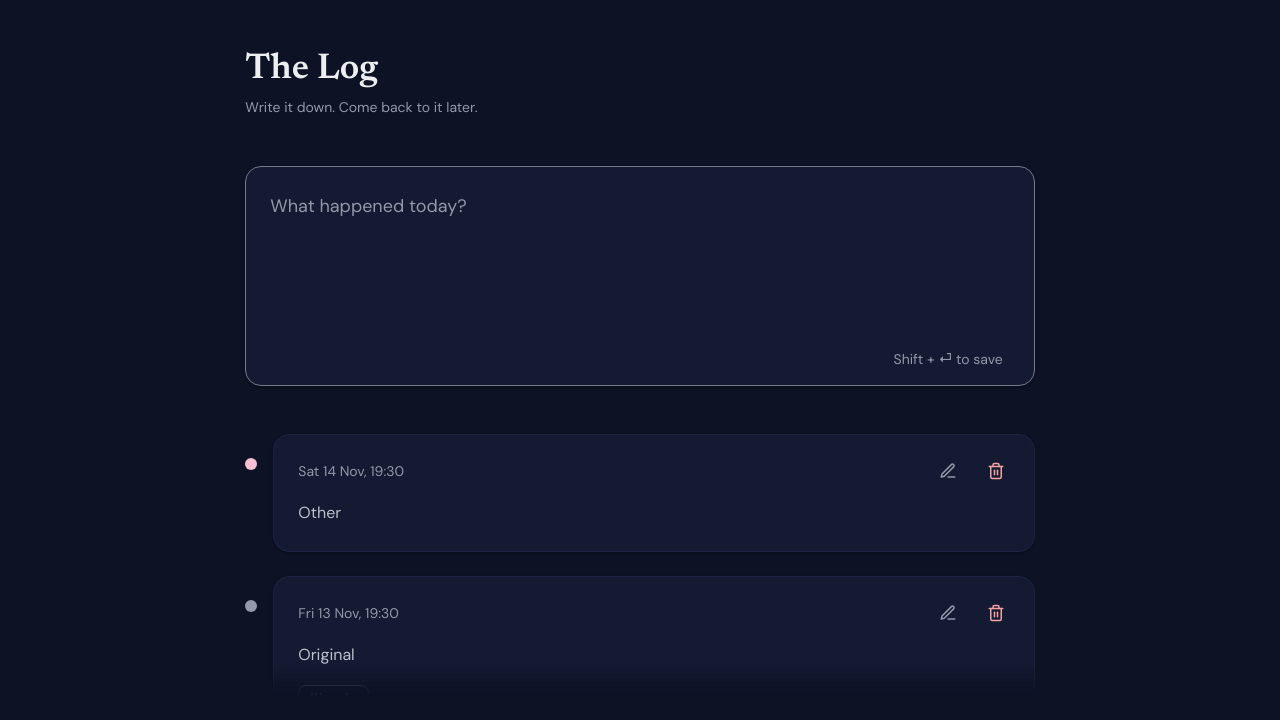
Test: keeps the thought and the stored item when the user cancels the delete
The image size is (1280, 720).
What coordinates should you click on to do the following:
click the button named "Delete thought, Fri 13 Nov, 19:30"
I would click on:
 (996, 613)
Its box is [974,591,1018,635].
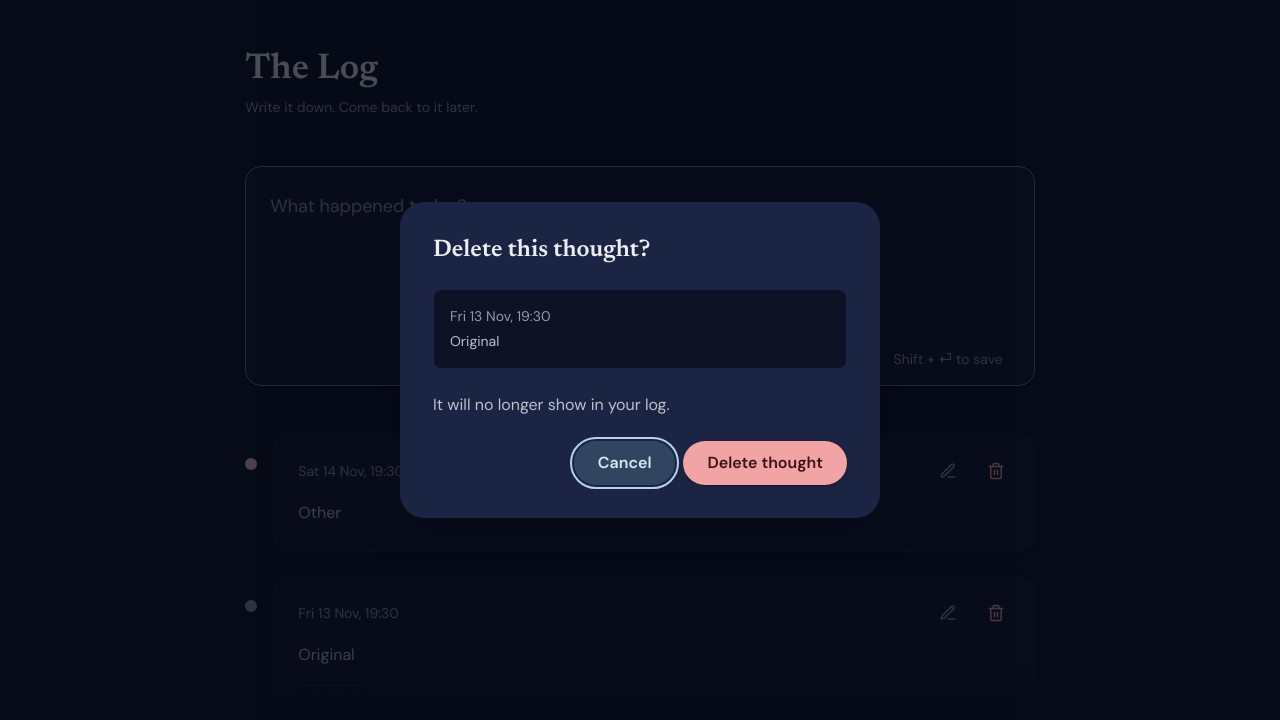
What coordinates should you click on to do the following:
click the button "Cancel"
I would click on:
 (625, 463)
Its box is [574,441,675,485].
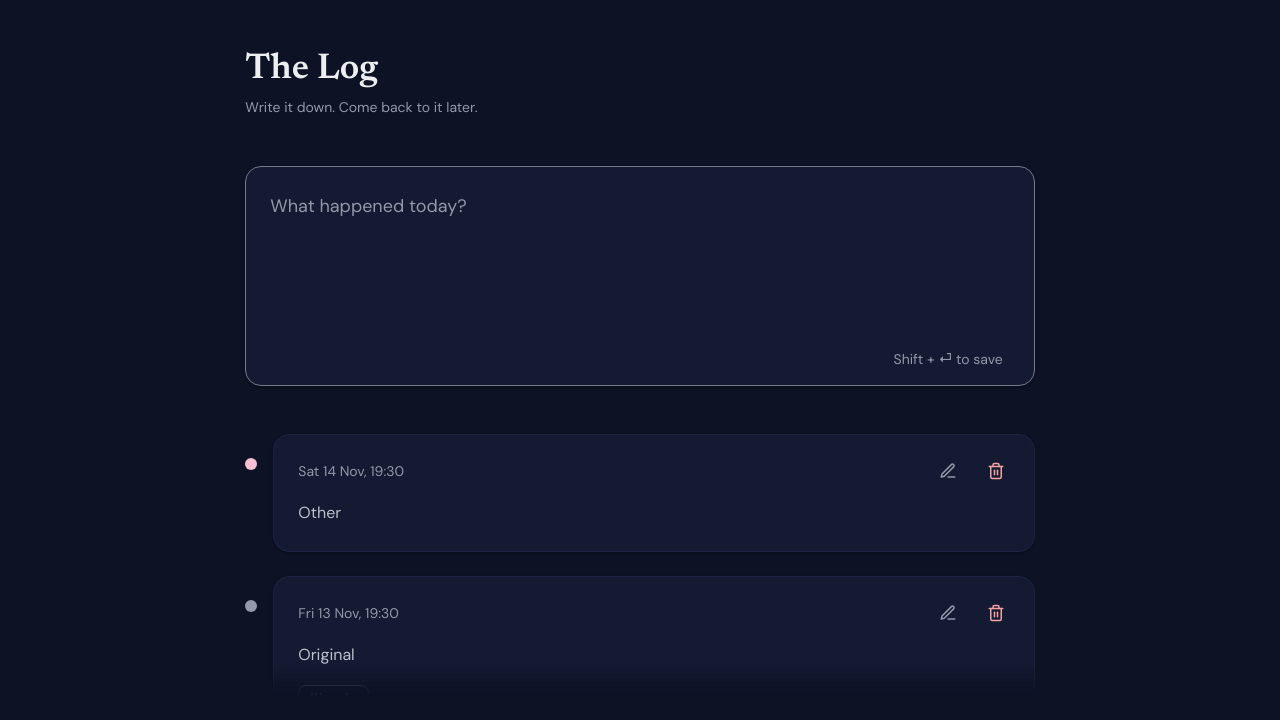
Expected: the dialog with class "delete-dialog" is gone
